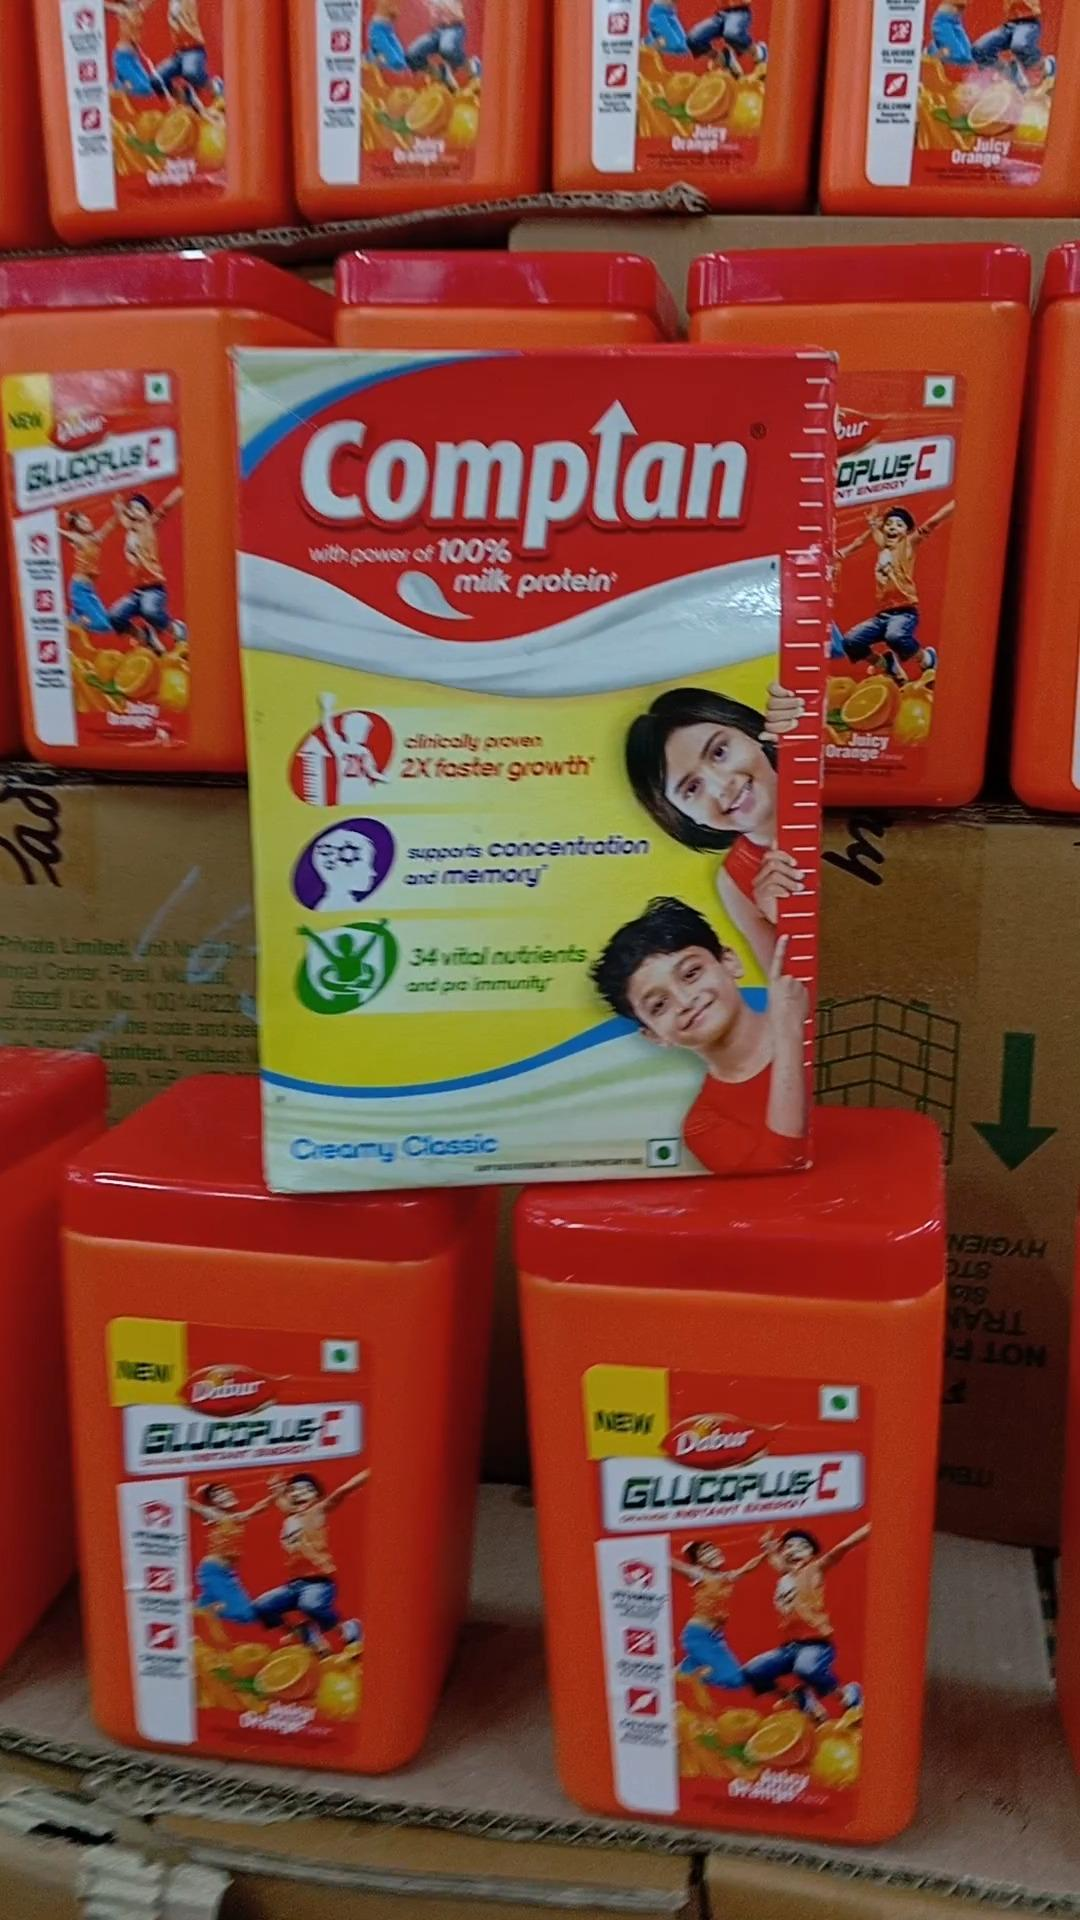COMPLAN_CREAMY_CLASSIC_500_G_PACK: (253, 348, 829, 1192)
